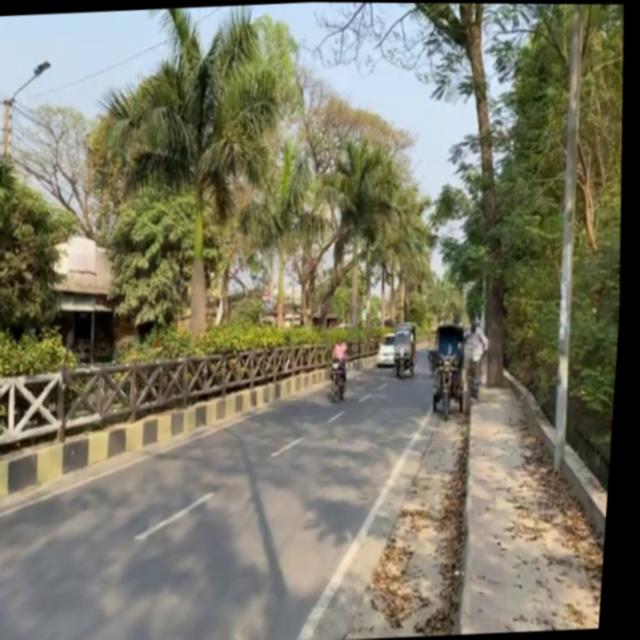Bench: (426, 321, 475, 420)
Fallen-tree: (332, 356, 356, 403)
Garbage-bin: (333, 336, 359, 392)
Light-pole: (532, 3, 608, 472)
Pole: (0, 331, 399, 529)
Pothole: (449, 319, 623, 634)
